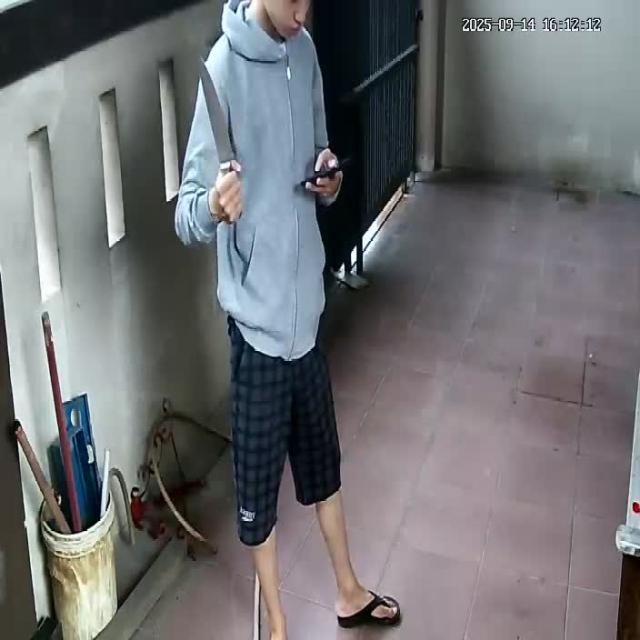senjata_tajam: (197, 49, 236, 172)
